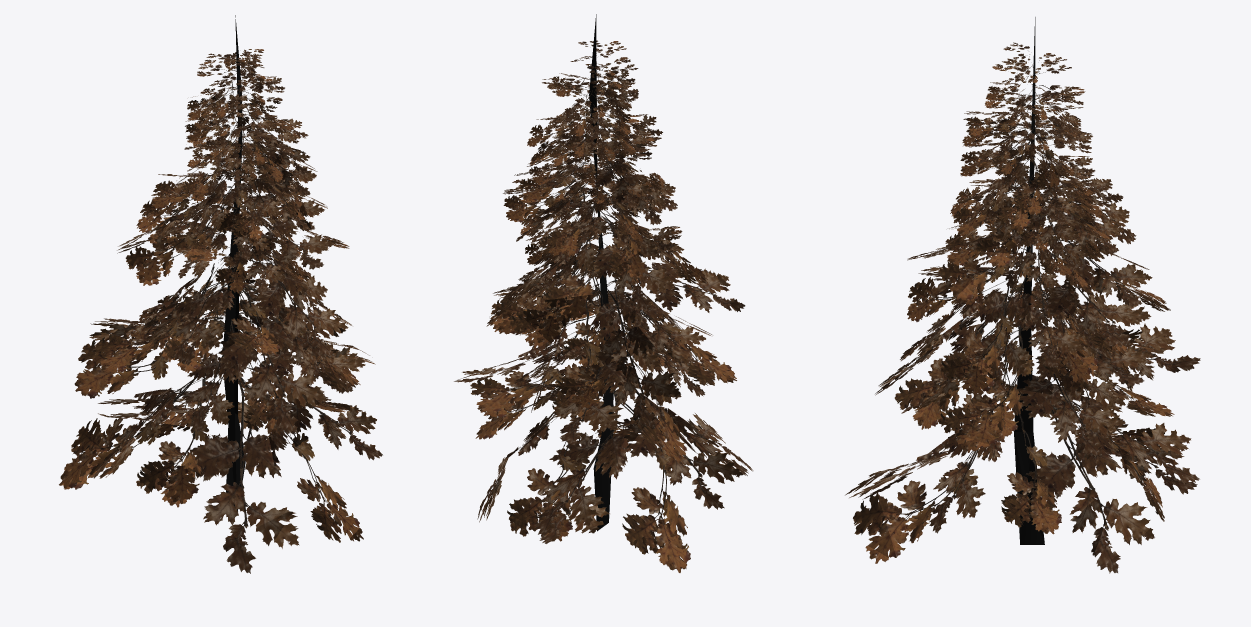
File: spruce3 lod1.FBX
The picture shows the model from 3 angles, left to right: view 1: azimuth 30°, elevation 25°; view 2: azimuth 150°, elevation 25°; view 3: azimuth 270°, elevation 25°; orthographic projection. The views are drawn at different scales.
Parts seen in each view (by area): view 1: spruce3_LOD1; view 2: spruce3_LOD1; view 3: spruce3_LOD1.
Part boxes in pixels (<box>): spruce3_LOD1: <box>59,15,382,573</box>; spruce3_LOD1: <box>454,14,753,572</box>; spruce3_LOD1: <box>845,17,1200,573</box>.
Size of the model in its own units: 59037 by 97928 by 68053.
